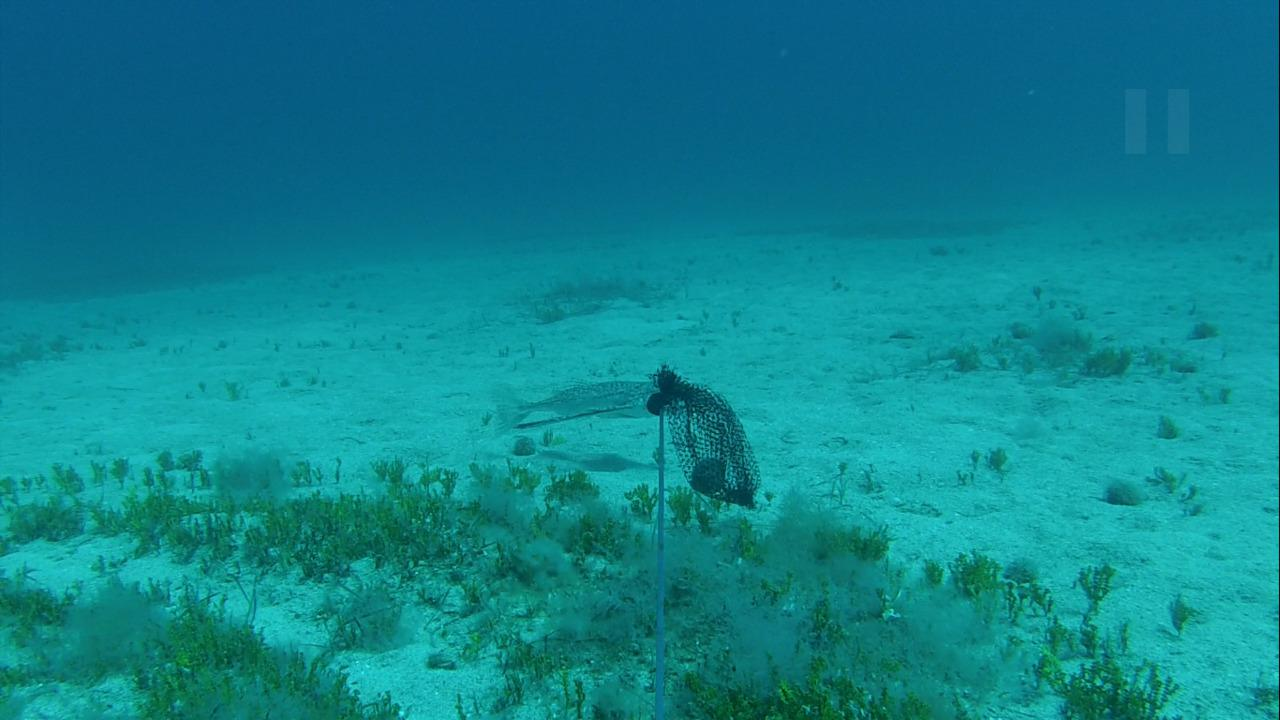dactylopterus: (479, 370, 650, 438)
